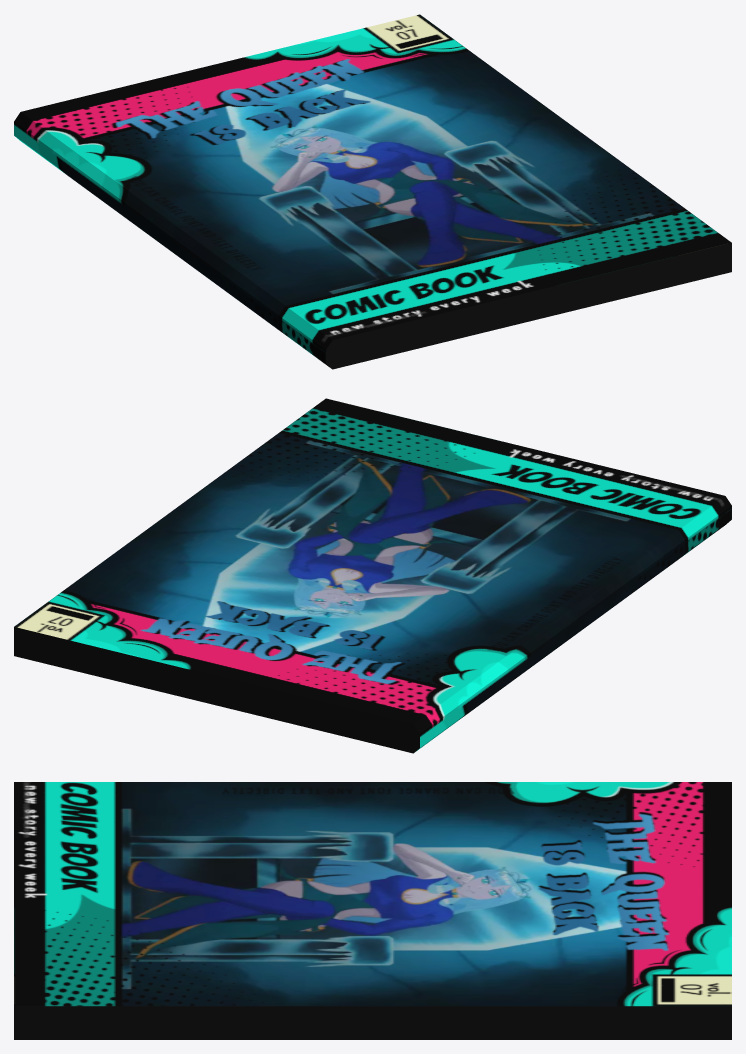
The model's file is Aleesia_Comic.fbx.
3 views of the same model, one above another, from view 1: azimuth 30°, elevation 25°; view 2: azimuth 150°, elevation 25°; view 3: azimuth 270°, elevation 25° (orthographic). The views are drawn at different scales.
Visible parts, largest first — view 1: Cube; view 2: Cube; view 3: Cube.
Boxes of the visible parts, x1,y1,x2,y2 form: Cube: (14, 14, 731, 369); Cube: (14, 398, 731, 753); Cube: (14, 782, 731, 1039).
Size of the model in its own units: 113 by 7.78 by 150.
